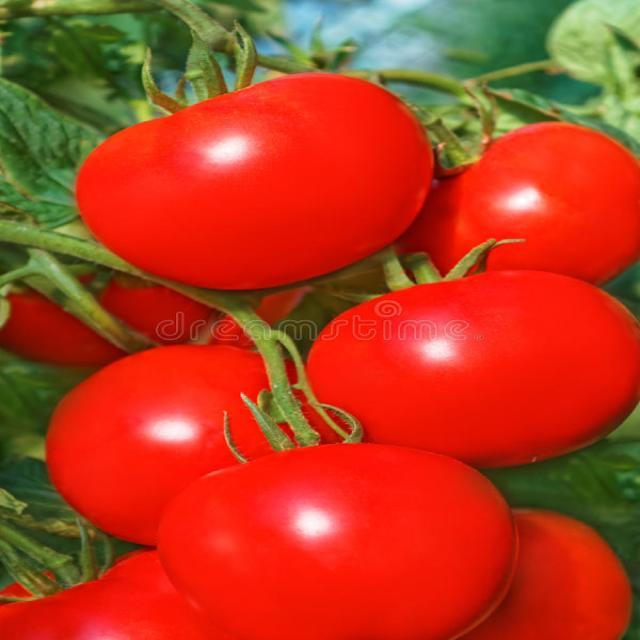kirmizi: (86, 82, 638, 606)
